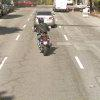Motorcycle: (31, 14, 60, 60)
